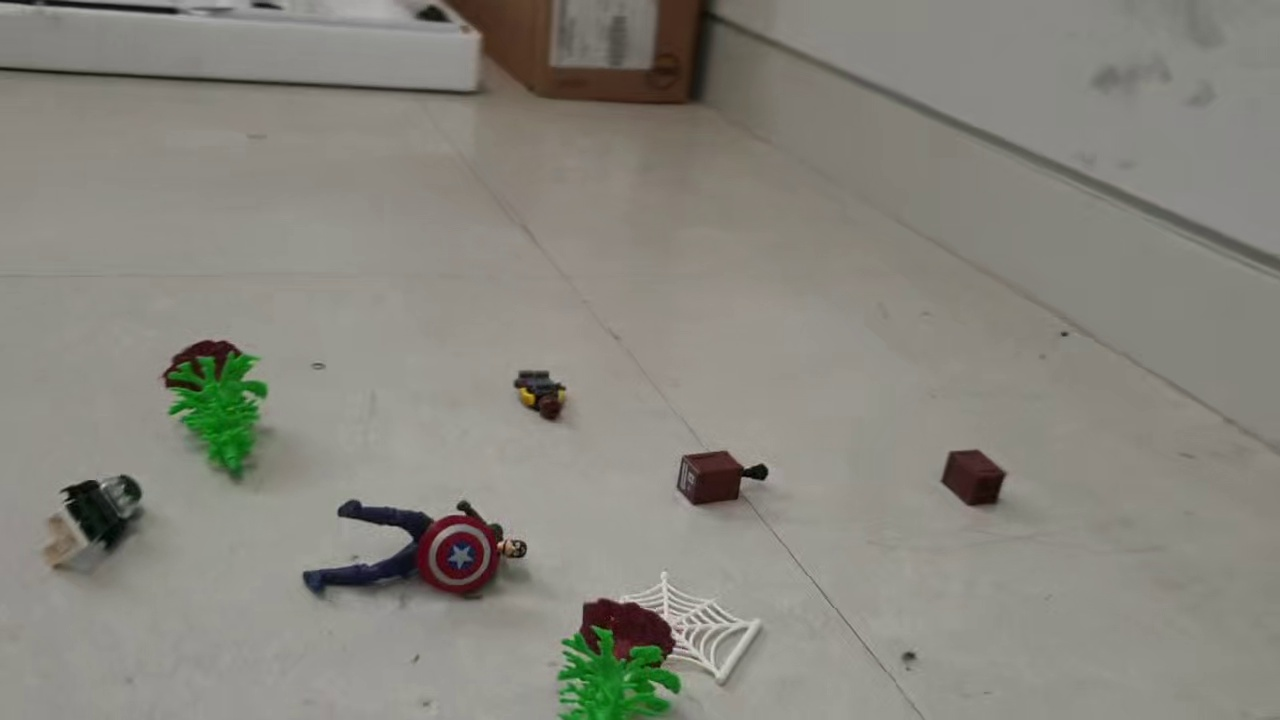box: (677, 449, 769, 506), (941, 449, 1006, 509)
people: (301, 499, 530, 600), (40, 474, 145, 574), (513, 370, 569, 423)
tree: (162, 339, 276, 479), (557, 598, 682, 720)
web: (565, 572, 764, 687)
